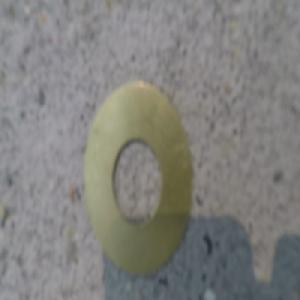Washer: (83, 78, 192, 275)
